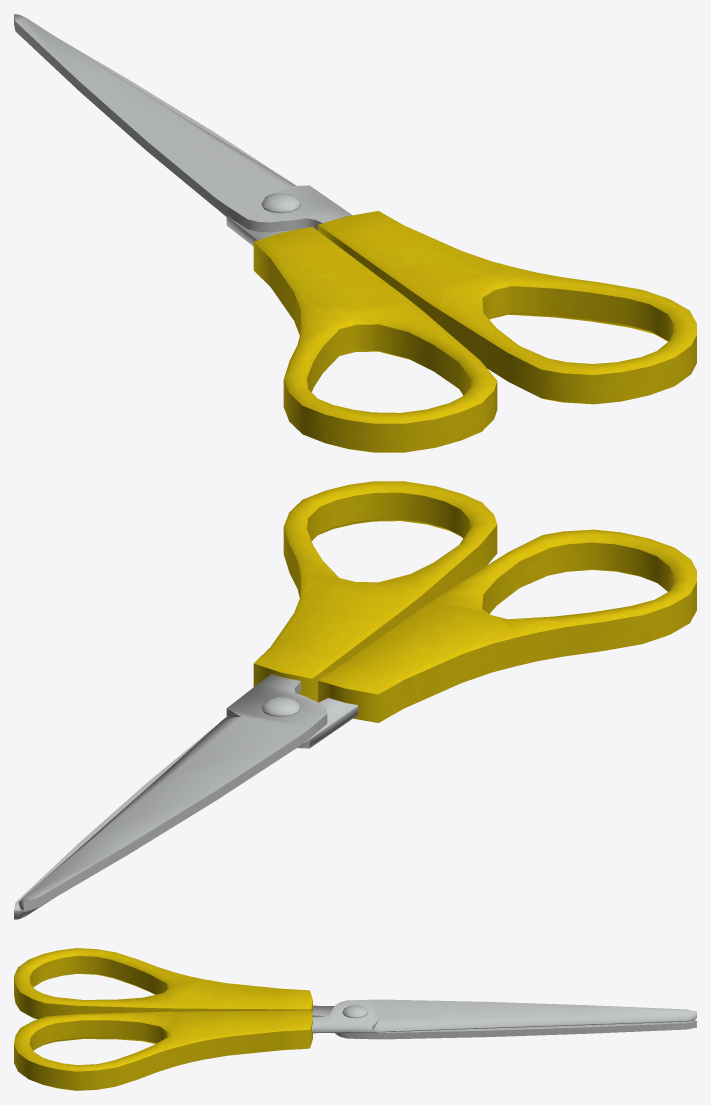
The model's file is cc0_scissors.glb.
3 renders of one model, top to bottom at view 1: azimuth 30°, elevation 25°; view 2: azimuth 150°, elevation 25°; view 3: azimuth 270°, elevation 25°, orthographic. The views are drawn at different scales.
Visible parts, largest first — view 1: ScissorRight, ScissorLeft; view 2: ScissorRight, ScissorLeft; view 3: ScissorRight, ScissorLeft.
Part boxes in pixels (x1,y1,x2,y2): ScissorRight: [14, 14, 696, 404]; ScissorLeft: [60, 39, 497, 452]; ScissorRight: [18, 481, 497, 911]; ScissorLeft: [14, 529, 696, 919]; ScissorRight: [14, 999, 696, 1090]; ScissorLeft: [14, 948, 696, 1039].
Bounding box in the file's own units: 0.056 × 0.00486 × 0.1314.
2 materials, 2 textured.
